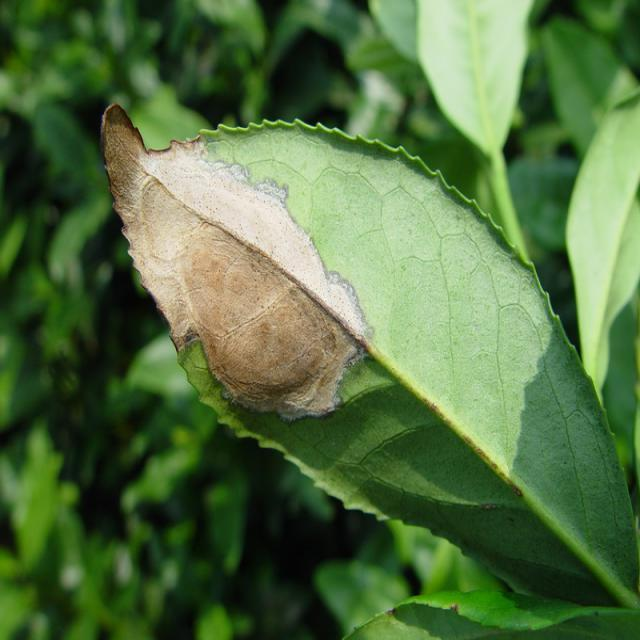Tea cloud leaf blight: (101, 107, 358, 415)
